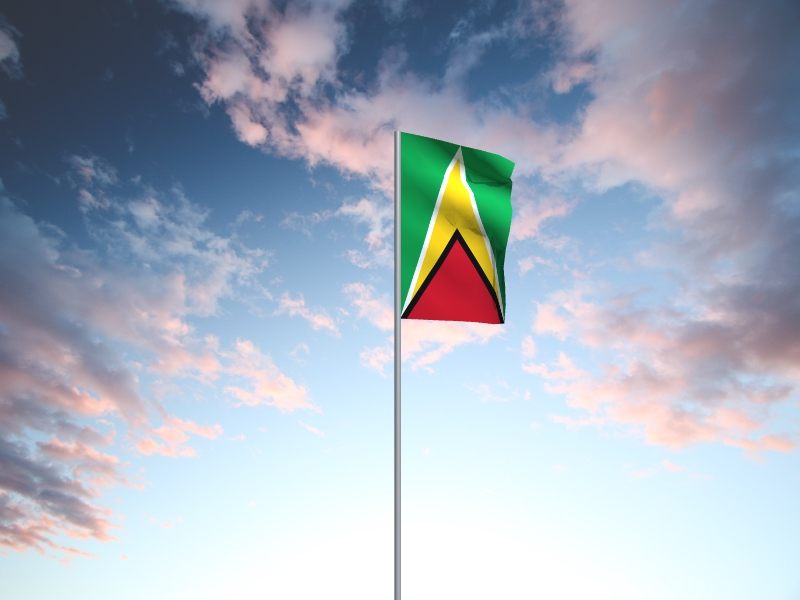gy: (402, 133, 517, 326)
